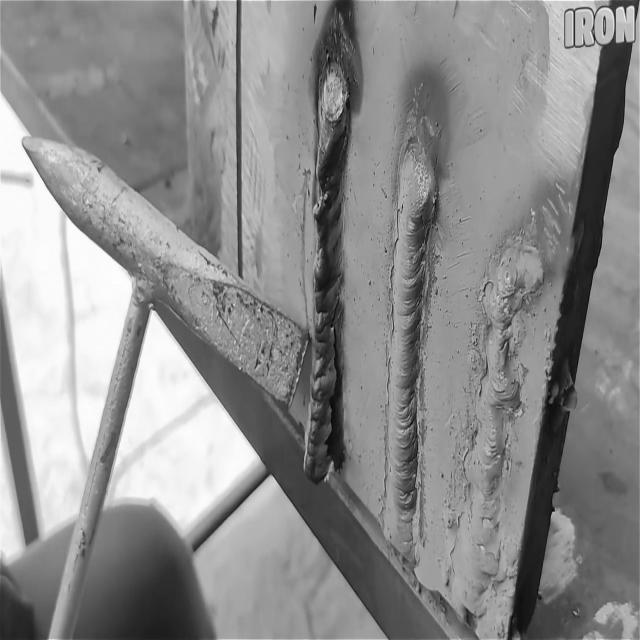Bad Weld: (448, 253, 541, 622), (304, 12, 356, 490)
Defect: (316, 288, 342, 478)
Good Weld: (382, 142, 440, 584)
